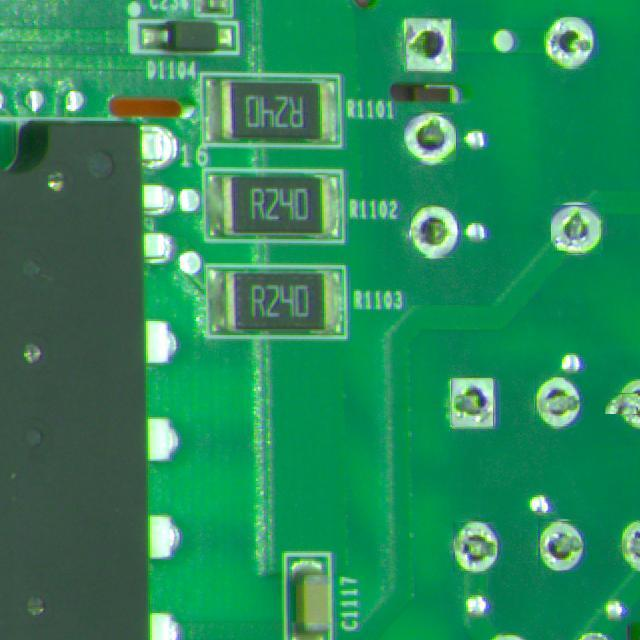oppostie_direction: (545, 18, 595, 67), (405, 19, 451, 70), (551, 205, 602, 251), (410, 208, 457, 256), (405, 115, 455, 160), (539, 520, 583, 570), (535, 378, 580, 425), (454, 523, 497, 570), (452, 379, 492, 425), (623, 522, 639, 570), (605, 393, 639, 414)
